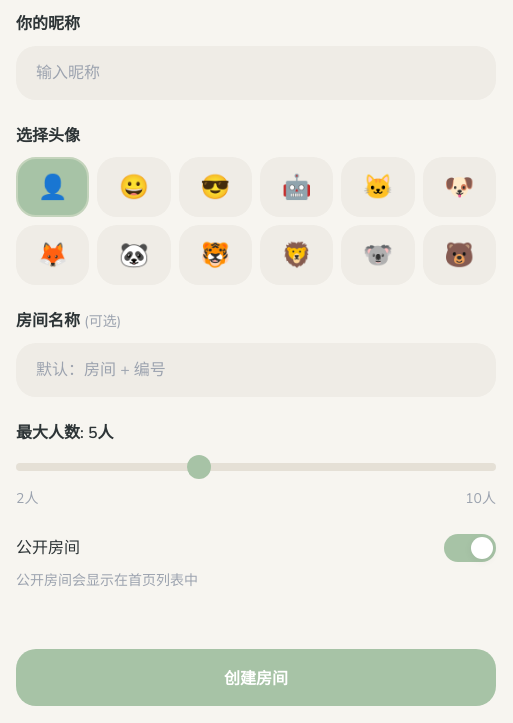
RoomForm › 表单交互测试 › 应该能调整最大人数
Step 1. Set the slider with class "range-slider" to "8" → (372, 467), box [16,463,496,471]
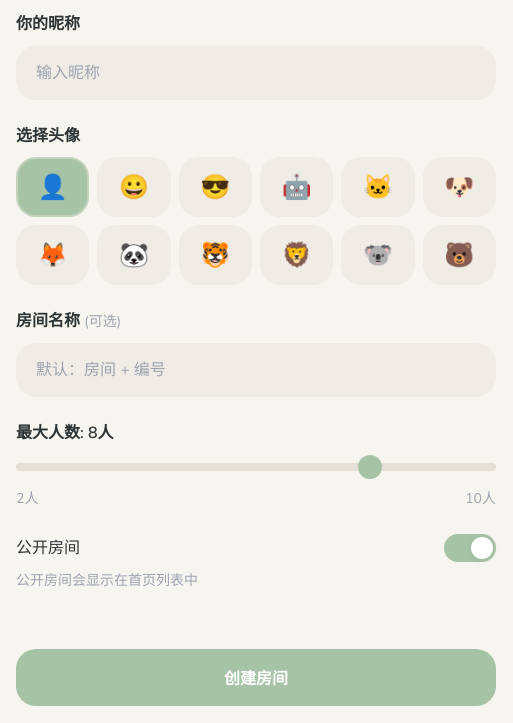
Expected: the text "8人" is shown, [16,422,114,444]
